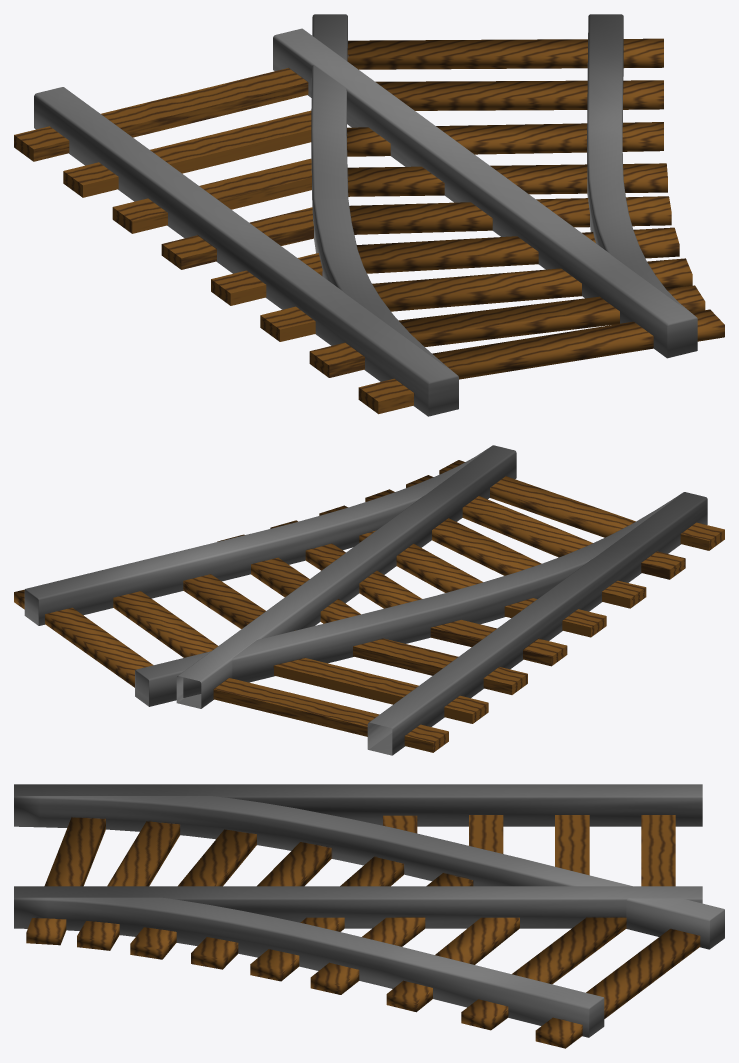
File: BifurcationRightRail.fbx
3 views of the same model, one above another, from view 1: azimuth 30°, elevation 25°; view 2: azimuth 150°, elevation 25°; view 3: azimuth 270°, elevation 25° (orthographic). The views are drawn at different scales.
Parts seen in each view (by area): view 1: BifurcationRight; view 2: BifurcationRight; view 3: BifurcationRight.
Part boxes in pixels (x1,y1,x2,y2): BifurcationRight: (14,14,724,416); BifurcationRight: (14,445,724,755); BifurcationRight: (14,784,724,1048).
Bounding box in the file's own units: 344 × 19.68 × 413.
